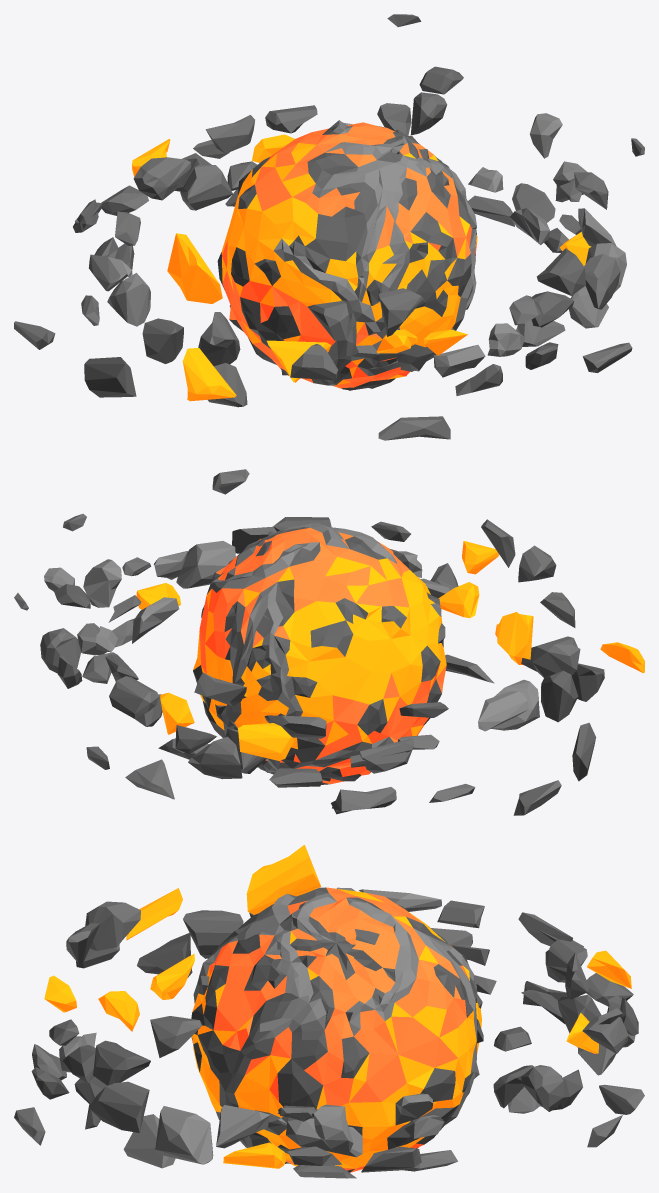
Rendered from LavaWorld_Model.fbx.
3 views of the same model, one above another, from view 1: azimuth 30°, elevation 25°; view 2: azimuth 150°, elevation 25°; view 3: azimuth 270°, elevation 25° (orthographic). The views are drawn at different scales.
Visible parts, largest first — view 1: LavaWorld; view 2: LavaWorld; view 3: LavaWorld.
Part boxes in pixels (x1,y1,x2,y2): LavaWorld: (14, 14, 644, 440); LavaWorld: (14, 469, 644, 815); LavaWorld: (14, 845, 644, 1178).
Bounding box in the file's own units: 52.02 × 21.54 × 46.77.
